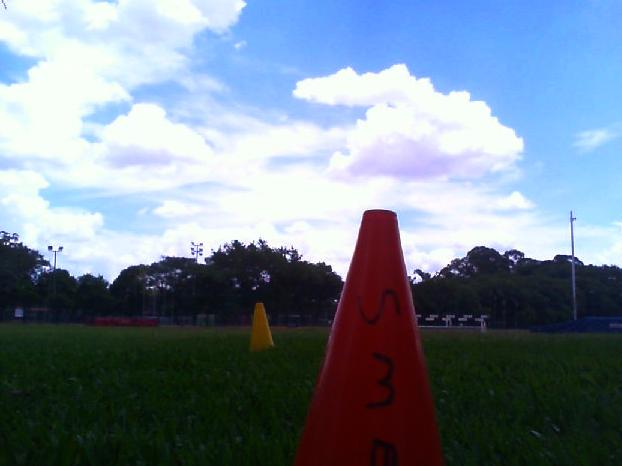0 cone: (291, 209, 444, 466), (249, 303, 275, 353)
